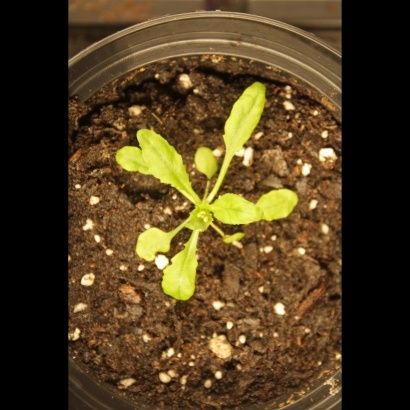leaf: (220, 75, 269, 163), (134, 124, 193, 194), (156, 241, 210, 308), (254, 185, 308, 225), (208, 191, 263, 226), (131, 223, 177, 262), (112, 137, 152, 180), (184, 200, 215, 234), (191, 146, 220, 180)
